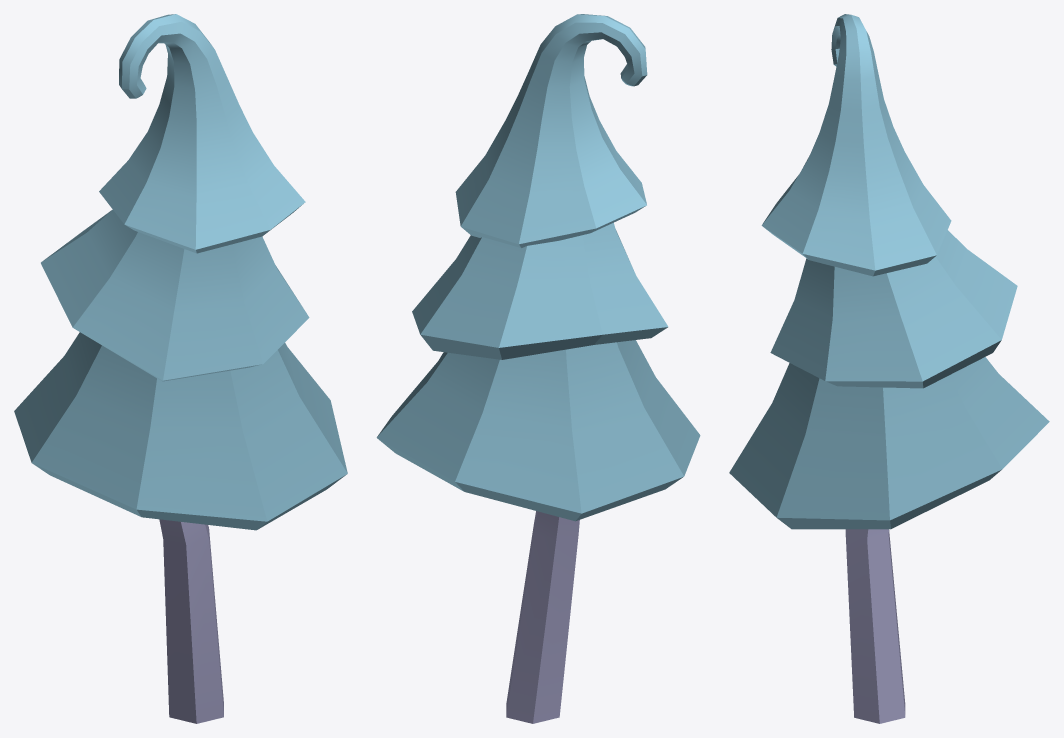
The model's file is Trees_Mystic_01.fbx.
3 renders of one model, left to right at view 1: azimuth 30°, elevation 25°; view 2: azimuth 150°, elevation 25°; view 3: azimuth 270°, elevation 25°, orthographic. The views are drawn at different scales.
Parts seen in each view (by area): view 1: Cathy1_Namu; view 2: Cathy1_Namu; view 3: Cathy1_Namu.
Part boxes in pixels (bbox=[...]): Cathy1_Namu: bbox=[14, 14, 347, 723]; Cathy1_Namu: bbox=[376, 14, 700, 723]; Cathy1_Namu: bbox=[729, 14, 1049, 723].
Size of the model in its own units: 405 by 925 by 401.
